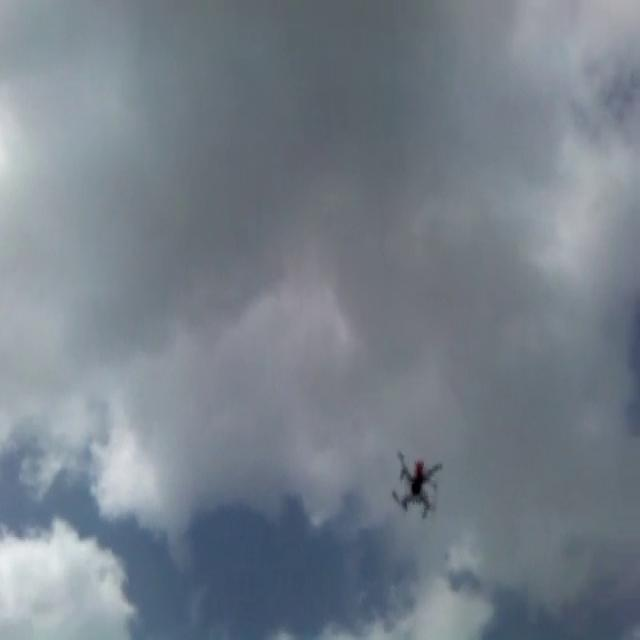drone: (389, 446, 445, 522)
